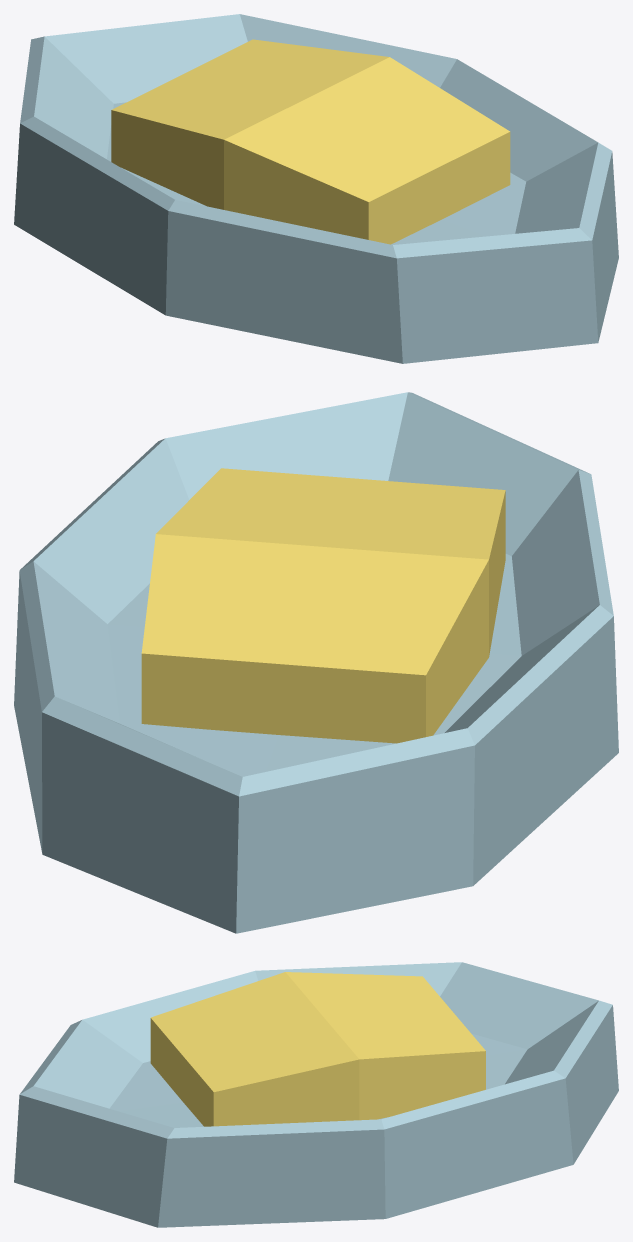
Rendered from Sponge.fbx.
3 views of the same model, one above another, from view 1: azimuth 30°, elevation 25°; view 2: azimuth 150°, elevation 25°; view 3: azimuth 270°, elevation 25° (orthographic). The views are drawn at different scales.
Visible parts, largest first — view 1: Sponge; view 2: Sponge; view 3: Sponge.
Part boxes in pixels (x1,y1,x2,y2): Sponge: [14, 14, 618, 363]; Sponge: [14, 392, 618, 933]; Sponge: [14, 962, 618, 1227].
Bounding box in the file's own units: 15.3 × 22.28 × 4.95.
